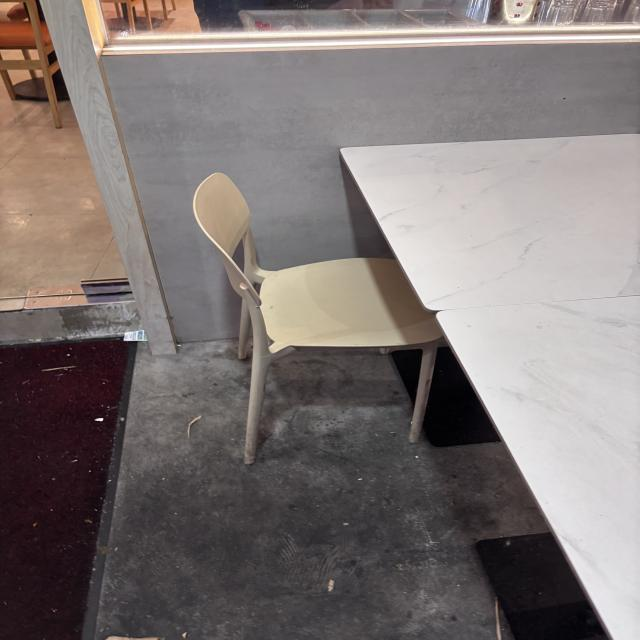Chair: (167, 161, 467, 469)
